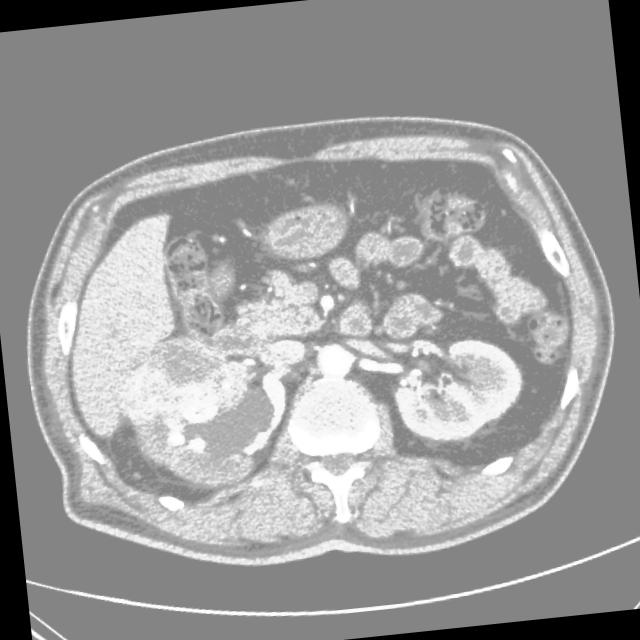TUMOR: (149, 258, 523, 468)
